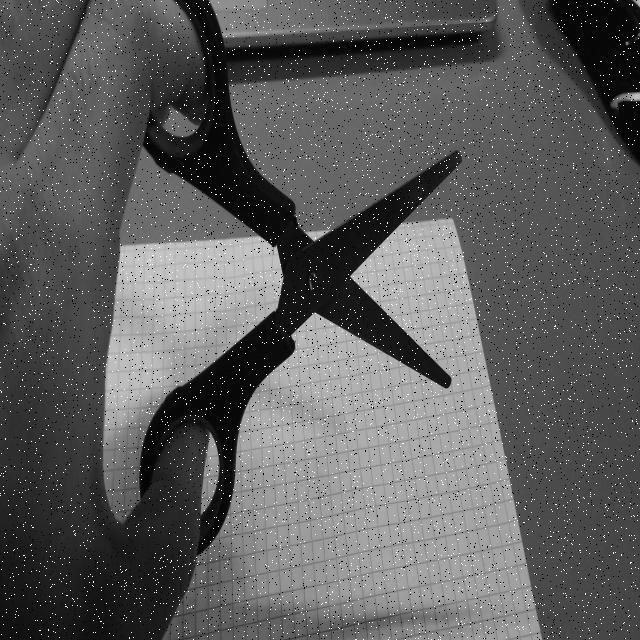scissors: (128, 0, 470, 571)
